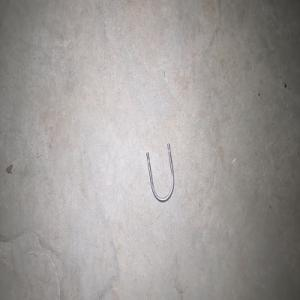ClampPart: (145, 142, 174, 203)
